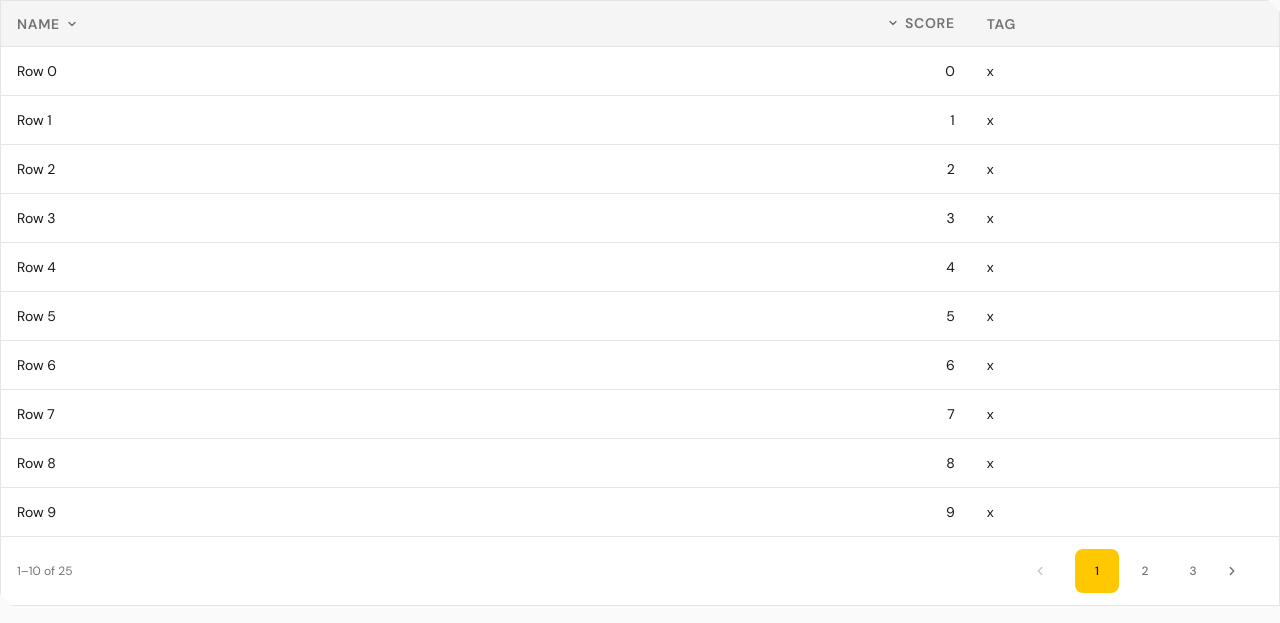
Test: DataTable › paginates large datasets
Expected: the text "Row 0" is shown, [1,46,468,96]
Expected: the text "Row 10" is not shown
Click the button named "Next page": x=1241, y=571 [1219,549,1263,593]
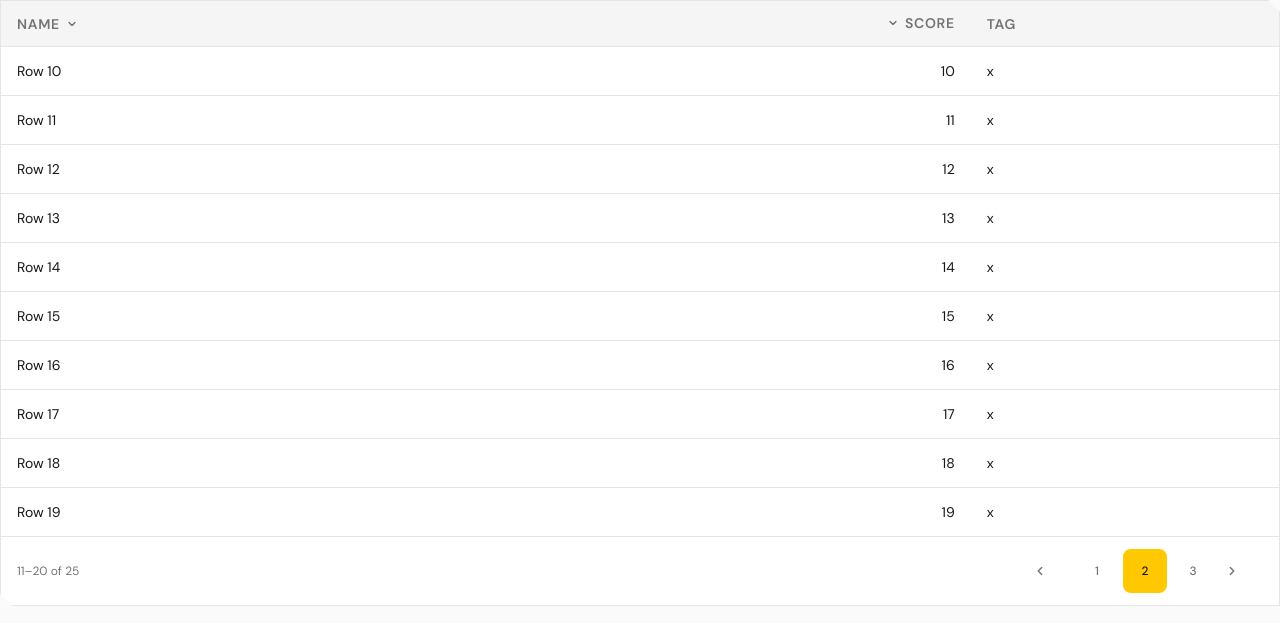
Expected: the text "Row 10" is shown, [1,46,468,96]
